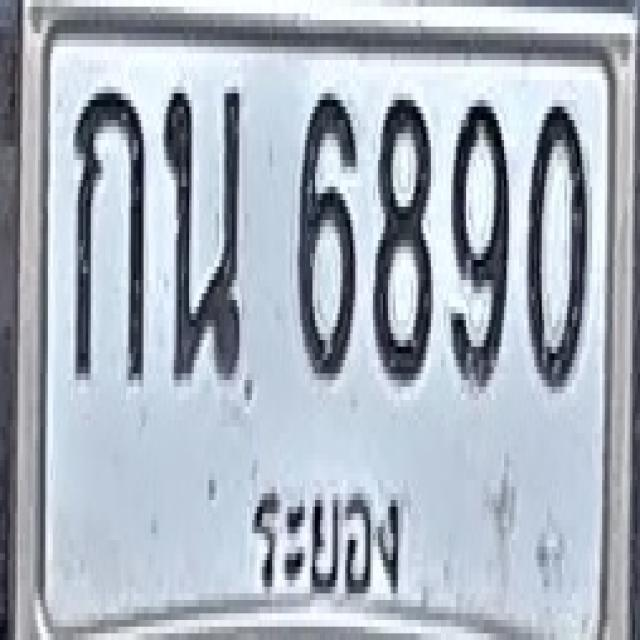0: (526, 100, 588, 387)
6: (296, 87, 357, 380)
8: (373, 90, 431, 383)
9: (450, 93, 508, 387)
A01: (72, 80, 145, 380)
A25: (162, 84, 240, 384)
RYG: (244, 464, 405, 616)
